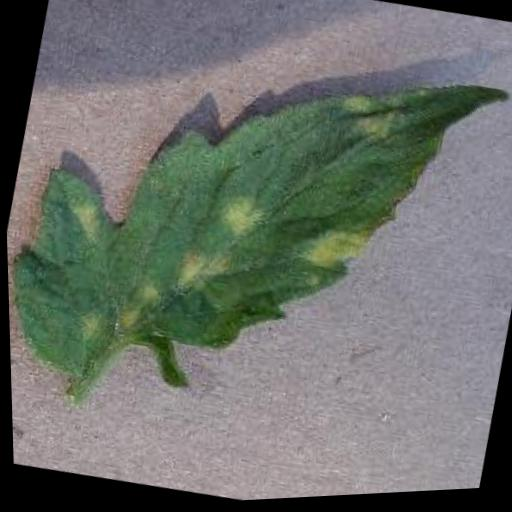Leaf Mold: (0, 0, 512, 458)
